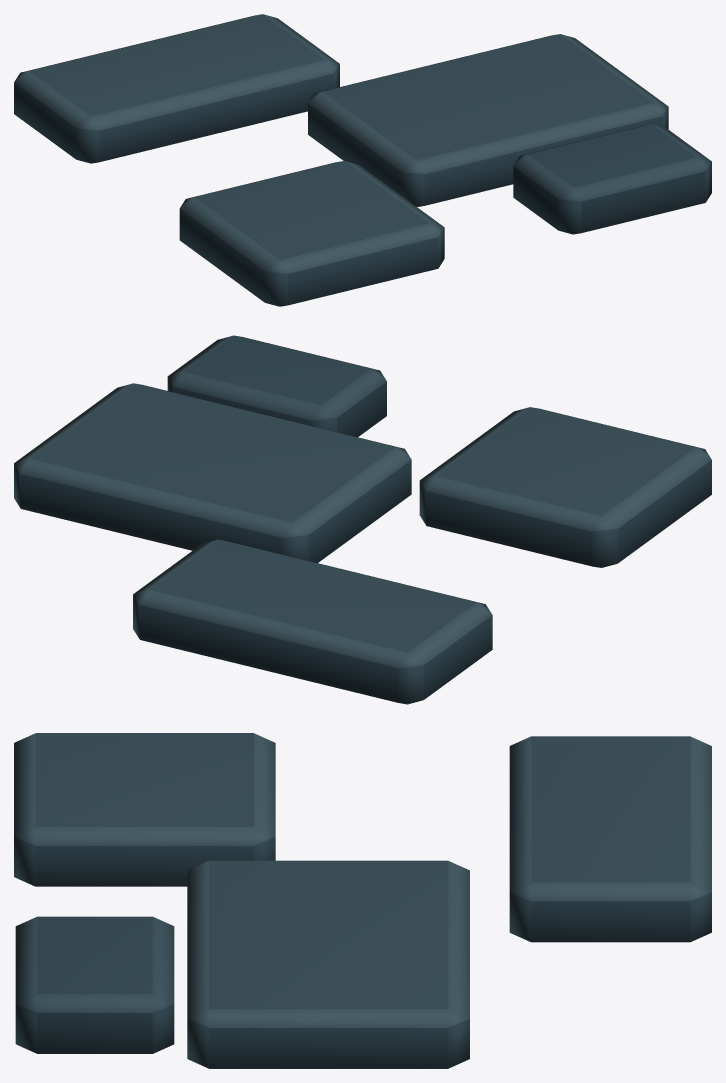
Rendered from stone_path_6.fbx.
3 renders of one model, top to bottom at view 1: azimuth 30°, elevation 25°; view 2: azimuth 150°, elevation 25°; view 3: azimuth 270°, elevation 25°, orthographic. The views are drawn at different scales.
Parts seen in each view (by area): view 1: stone_path_6; view 2: stone_path_6; view 3: stone_path_6.
Boxes of the visible parts, box(x1,y1,x2,y2) form: stone_path_6: box(14, 14, 711, 306); stone_path_6: box(14, 335, 711, 704); stone_path_6: box(14, 733, 711, 1068).
Size of the model in its own units: 192 by 18.28 by 193.
